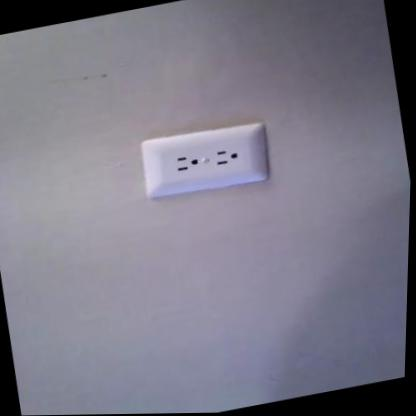OUTLET: (138, 116, 273, 202)
